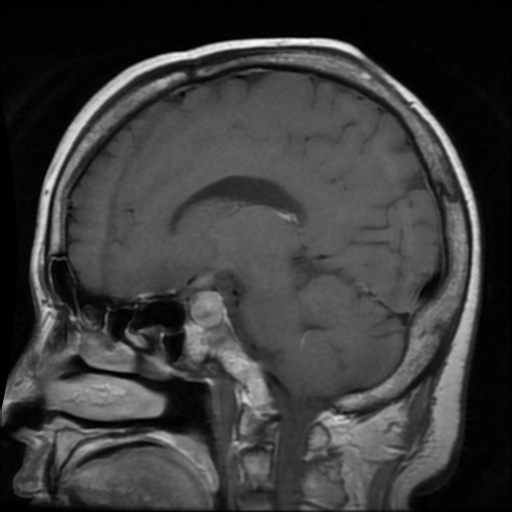pituitary: (189, 293, 223, 329)
